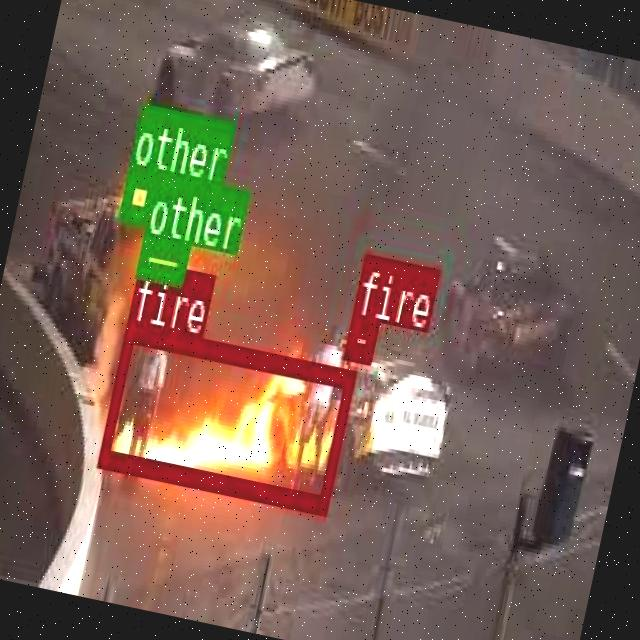fire: (96, 320, 354, 510), (344, 314, 376, 358)
